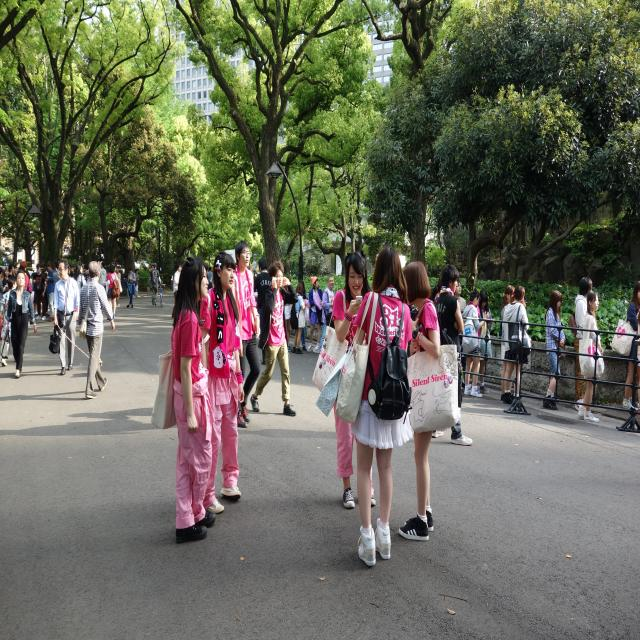body: (316, 246, 412, 567), (149, 255, 217, 546), (312, 250, 381, 511), (396, 260, 443, 542), (199, 250, 246, 516), (249, 261, 299, 417), (432, 263, 474, 446), (230, 240, 261, 428), (0, 264, 152, 300), (76, 260, 115, 400), (0, 268, 38, 379), (609, 279, 640, 412), (502, 285, 532, 407), (49, 258, 80, 376), (576, 292, 604, 422), (568, 276, 592, 412), (542, 289, 567, 411), (461, 288, 484, 398), (472, 290, 494, 394), (498, 284, 516, 402), (248, 267, 295, 300), (454, 278, 466, 390), (319, 276, 336, 354), (308, 276, 324, 354), (253, 257, 272, 315), (291, 282, 306, 354), (32, 262, 47, 320), (105, 263, 120, 320), (282, 276, 292, 352), (170, 262, 182, 320), (635, 307, 640, 435), (45, 261, 55, 322), (149, 262, 161, 308), (73, 263, 86, 296), (126, 266, 136, 308), (0, 266, 8, 307), (52, 258, 62, 286), (19, 265, 29, 291), (115, 265, 121, 308), (98, 262, 107, 290), (134, 268, 140, 298), (207, 266, 213, 294), (2, 268, 10, 288), (7, 264, 15, 278), (124, 276, 128, 289)
